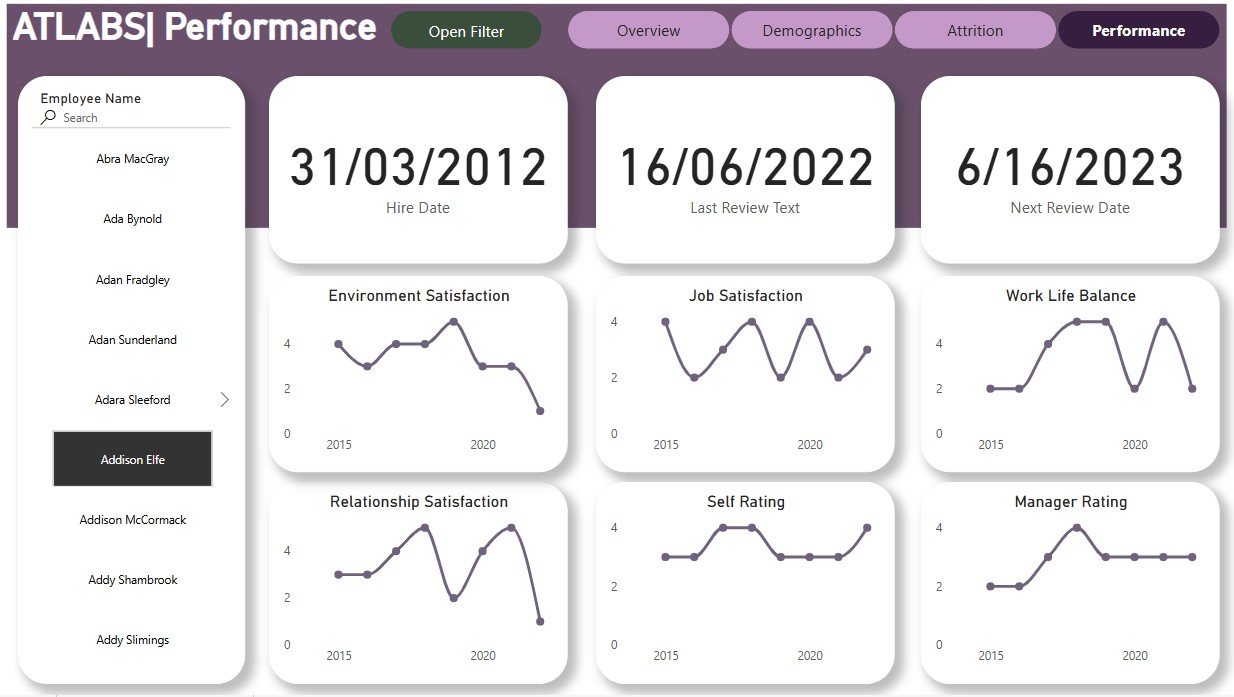

What the dashboard file says about the page in this screenshot:
{"tool":"powerbi","page":{"name":"Performance","canvas":[1280,720],"ordinal":3},"visuals":[{"type":"image","box":[0,0,1279.8,720],"z":0},{"type":"textbox","box":[10.8,0,396.2,62.7],"z":1000},{"type":"actionButton","title":"Open Filter Button","box":[406.9,12.5,156,39.4],"z":1000,"group":"g1"},{"type":"pageNavigator","box":[589.8,12.5,674.1,39.4],"z":2000},{"type":"slicer","fields":{"Values":["Employee.Name"]},"box":[20.6,79.3,235.1,628.9],"z":3000},{"type":"card","fields":{"Values":["_Measures.LastReviewDate"]},"box":[618.6,79.3,308.6,194],"z":6000},{"type":"card","fields":{"Values":["_Measures.Next Review Date"]},"box":[955.1,79.3,308.6,194],"z":7000},{"type":"card","fields":{"Values":["Min(Employee.HireDate)"]},"box":[280.7,79.3,308.6,194],"z":8000},{"type":"lineChart","title":"Relationship Satisfaction","fields":{"Y":["_Measures.Relationship Satisfaction"],"Category":["Calendar.FiscalYearNum"]},"box":[280.7,499.6,308.6,208.7],"z":9000},{"type":"lineChart","title":"Job Satisfaction","fields":{"Y":["_Measures.Job Satisfaction"],"Category":["Calendar.FiscalYearNum"]},"box":[618.6,286.5,308.6,202.8],"z":10000},{"type":"lineChart","title":"Work Life Balance","fields":{"Category":["Calendar.FiscalYearNum"],"Y":["_Measures.Work Life Balance"]},"box":[955.1,286.5,308.6,202.8],"z":11000},{"type":"lineChart","title":"Environment Satisfaction","fields":{"Y":["_Measures.Environment Satisfaction"],"Category":["Calendar.FiscalYearNum"]},"box":[280.7,286.5,308.6,202.8],"z":12000},{"type":"lineChart","title":"Self Rating","fields":{"Y":["_Measures.Self Rating"],"Category":["Calendar.FiscalYearNum"]},"box":[618.6,499.6,308.6,208.7],"z":13000},{"type":"lineChart","title":"Manager Rating","fields":{"Y":["_Measures.Manager Rating"],"Category":["Calendar.FiscalYearNum"]},"box":[955.1,499.6,308.6,208.7],"z":14000},{"type":"group","id":"g1","title":"Filter Button","box":[406.9,12.5,156,39.7],"z":14500}]}

Visuals, with their boxes in screenshot pixels (x1, y1, x2, y2), scaled from the page's 1280x720 canvas onto the 1234x697 screenshot:
image: {"x1": 0, "y1": 0, "x2": 1233, "y2": 696}
textbox: {"x1": 10, "y1": 0, "x2": 392, "y2": 61}
"Open Filter Button" actionButton: {"x1": 392, "y1": 12, "x2": 543, "y2": 50}
pageNavigator: {"x1": 569, "y1": 12, "x2": 1218, "y2": 50}
slicer - Employee.Name: {"x1": 20, "y1": 77, "x2": 247, "y2": 686}
card - _Measures.LastReviewDate: {"x1": 596, "y1": 77, "x2": 894, "y2": 265}
card - _Measures.Next Review Date: {"x1": 921, "y1": 77, "x2": 1218, "y2": 265}
card - Min(Employee.HireDate): {"x1": 271, "y1": 77, "x2": 568, "y2": 265}
"Relationship Satisfaction" lineChart: {"x1": 271, "y1": 484, "x2": 568, "y2": 686}
"Job Satisfaction" lineChart: {"x1": 596, "y1": 277, "x2": 894, "y2": 474}
"Work Life Balance" lineChart: {"x1": 921, "y1": 277, "x2": 1218, "y2": 474}
"Environment Satisfaction" lineChart: {"x1": 271, "y1": 277, "x2": 568, "y2": 474}
"Self Rating" lineChart: {"x1": 596, "y1": 484, "x2": 894, "y2": 686}
"Manager Rating" lineChart: {"x1": 921, "y1": 484, "x2": 1218, "y2": 686}
"Filter Button" group: {"x1": 392, "y1": 12, "x2": 543, "y2": 51}
